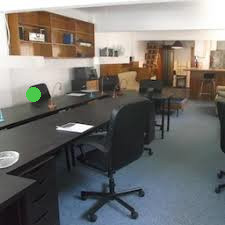focus: (21, 85, 44, 105)
